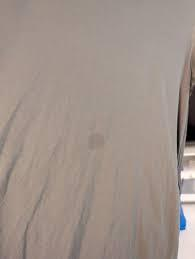mustard: (79, 123, 111, 154)
